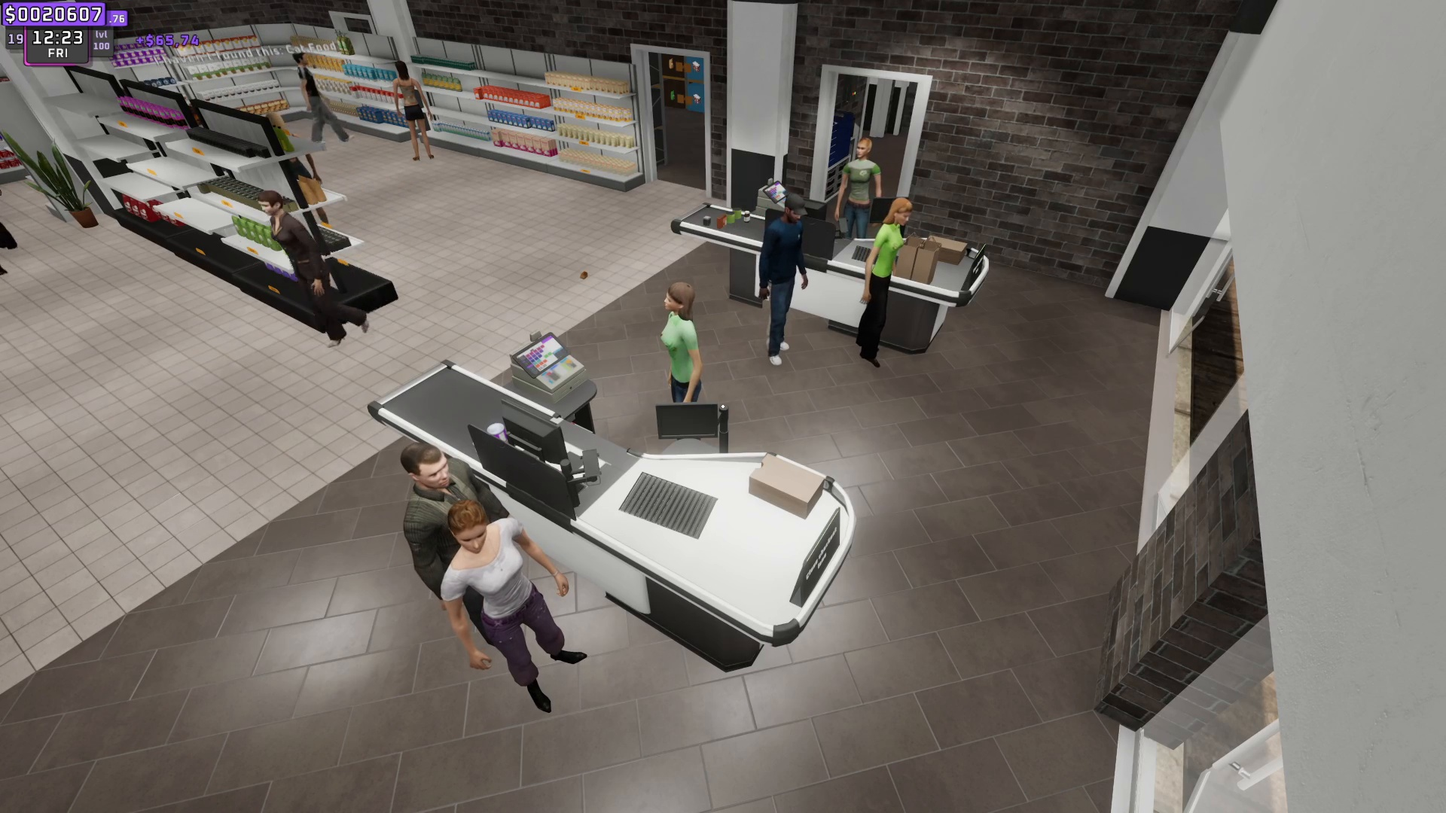Client: (448, 504, 593, 689), (399, 440, 501, 588), (762, 197, 804, 360), (870, 205, 915, 357)
Employee: (653, 289, 712, 399), (844, 136, 881, 231)
